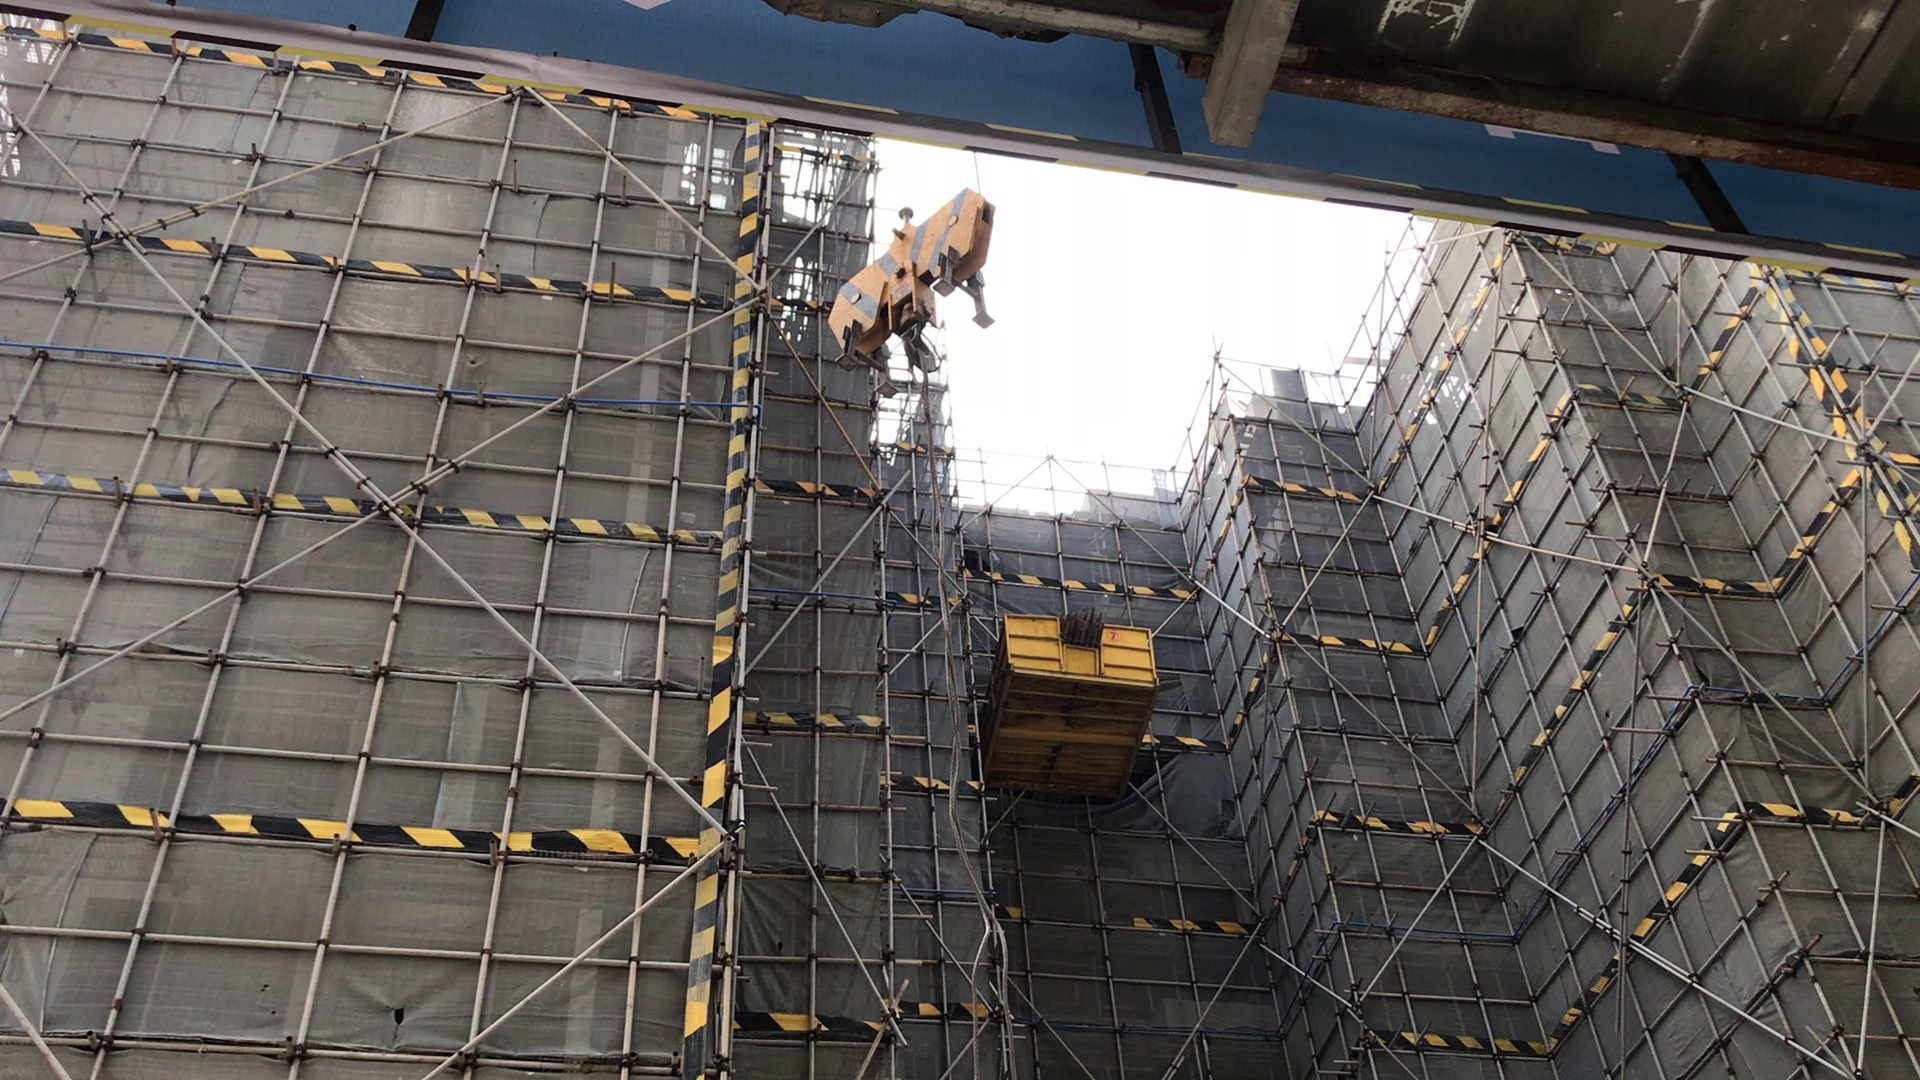hook: (789, 193, 1021, 334)
